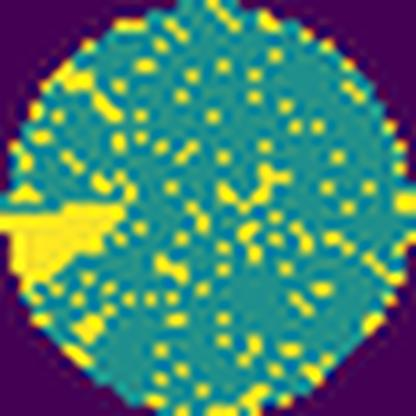Edge-Loc: (0, 199, 128, 294)
